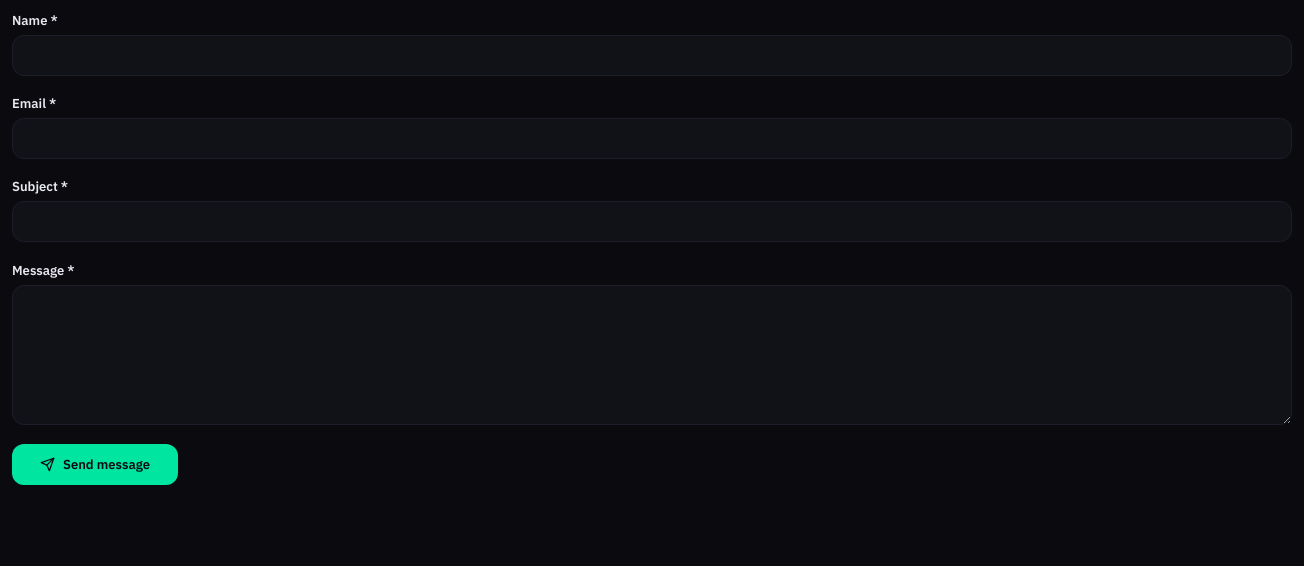
Scenario: Contact Form — Validation › shows error when email is missing
The width and height of the screenshot is (1304, 566).
Type "Jane Doe" into the field labelled "Name *". click: (652, 56)
box: [12,35,1292,76]
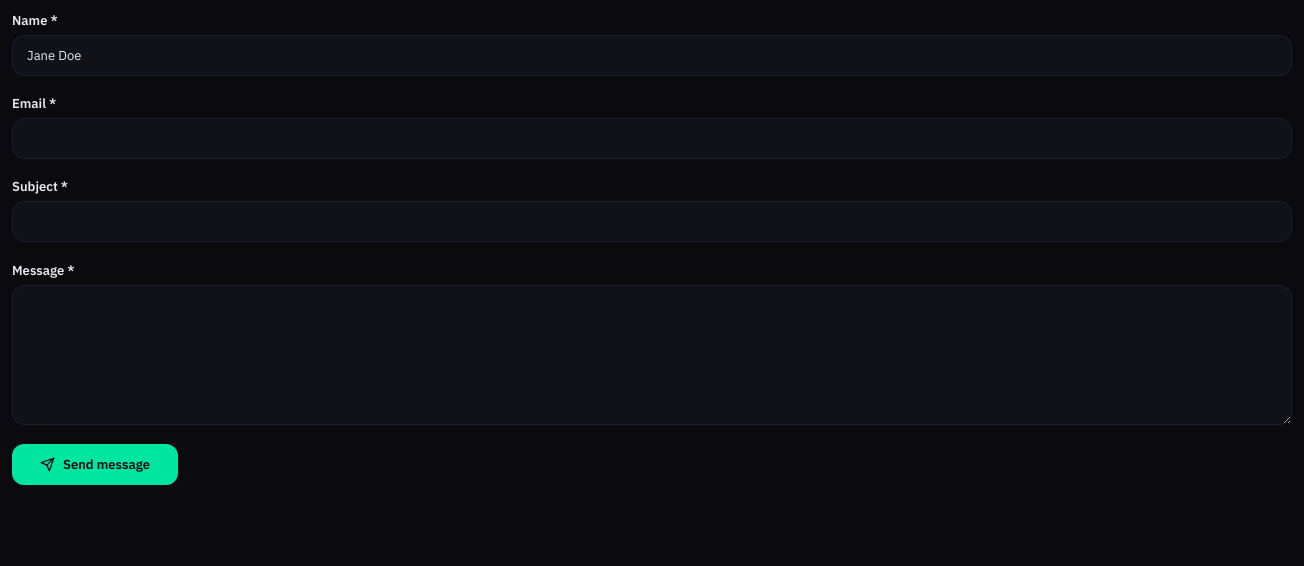
Click the button "Send message". click: click(95, 464)
box: [12,444,178,485]
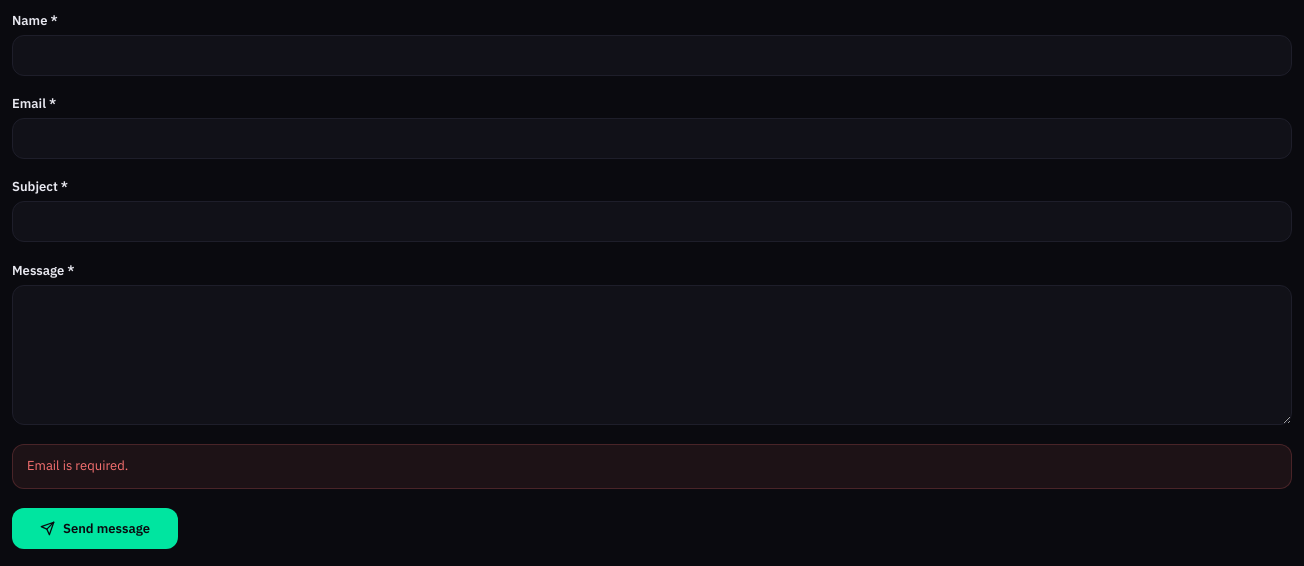
Expected: the text "Email is required." is shown, [12,444,1292,489]
